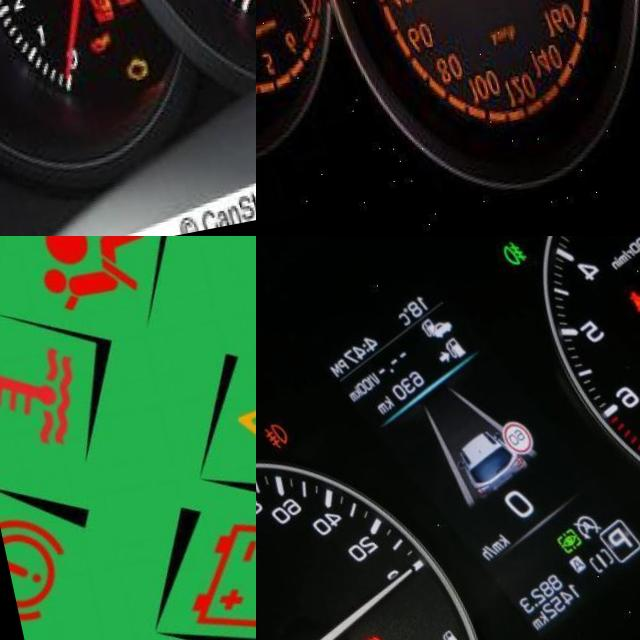Seat Belt: (620, 308, 640, 334)
